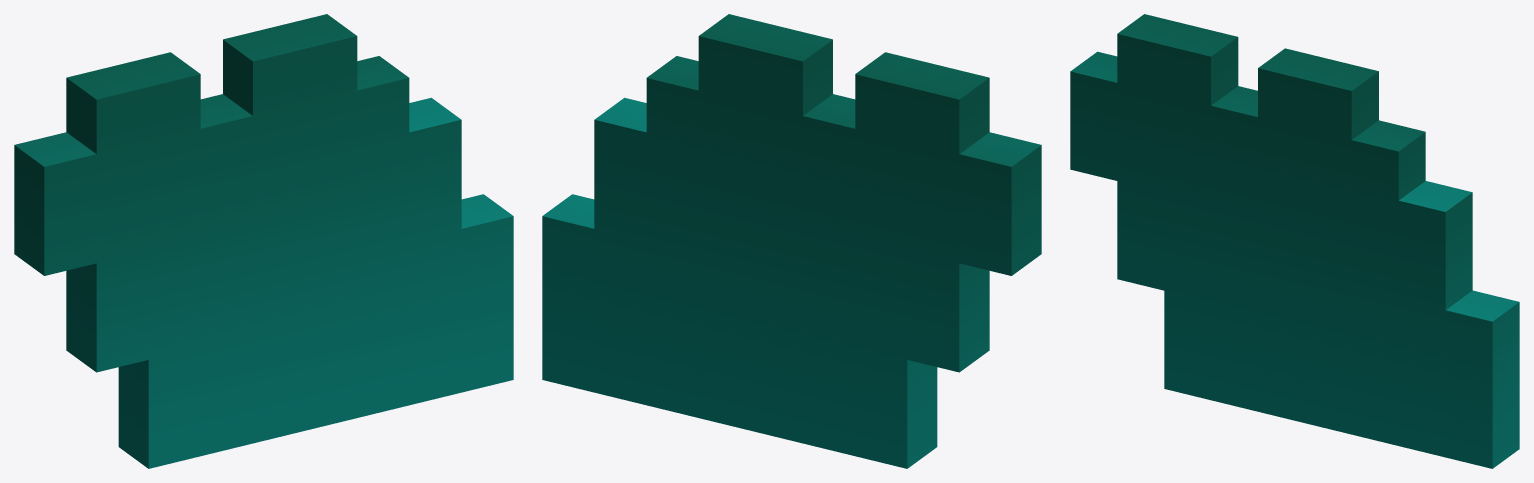
The model's file is ppl.gltf.
The picture shows the model from 3 angles, left to right: view 1: azimuth 30°, elevation 25°; view 2: azimuth 150°, elevation 25°; view 3: azimuth 330°, elevation 25°; orthographic projection. The views are drawn at different scales.
Visible parts, largest first — view 1: mesh (×7); view 2: mesh (×7); view 3: mesh (×7).
Part boxes in pixels (<box>): mesh (×7): <box>14,14,513,468</box>; mesh (×7): <box>542,14,1041,468</box>; mesh (×7): <box>1070,14,1519,468</box>.
Bounding box in the file's own units: 0.5625 × 0.4375 × 0.0625.
1 material, 1 textured.
